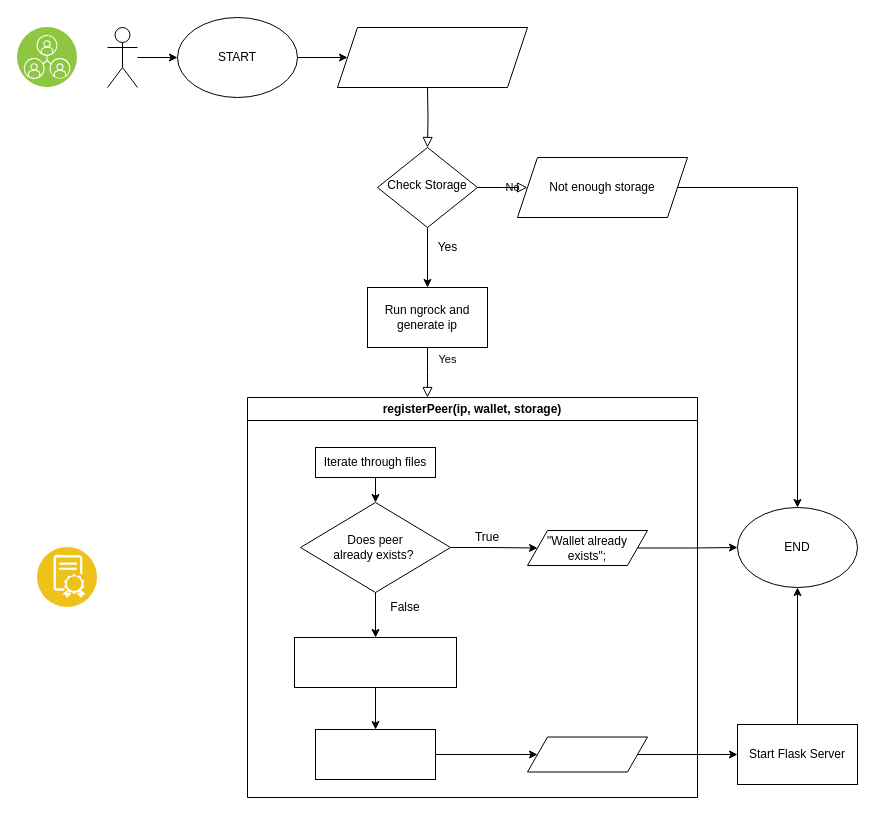
This 875x815 diagram has some shape labels left out. Here are the shapes that lost their labels. From the top down, the centre of each, then its label:
[122,57]: Peer
[432,57]: Ngrock token, wallet address, storage
[375,662]: Add new peer to list of peers
[375,754]: Transfer tokens to the new peer's wallet
[587,754]: "True"
